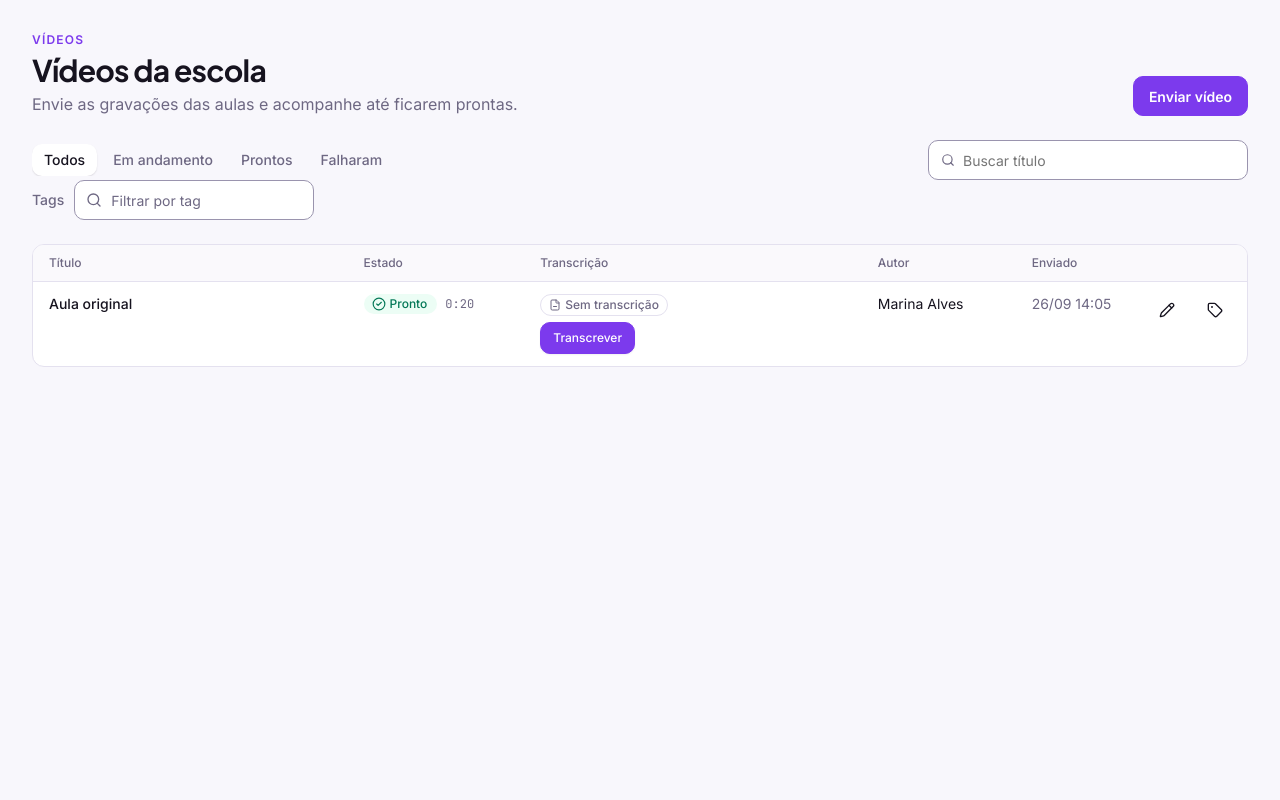
Test: video-tags-edit › uses the PUT response immediately without depending on a list refresh
The image size is (1280, 800).
Click the button named "Editar tags de Aula original". click: (1215, 310)
box: [1199,294,1231,326]
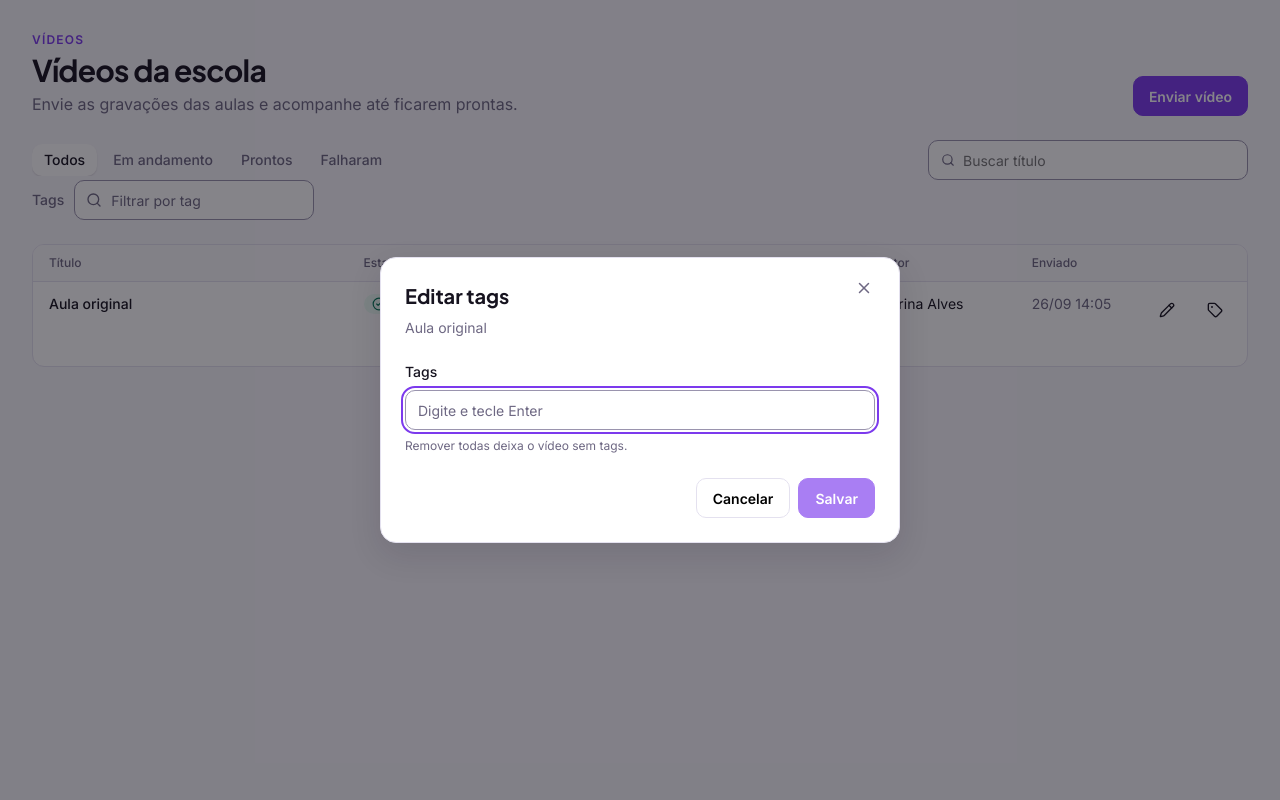
Type "docker" into the dropdown labelled "Tags". click: (640, 410)
box: [405,390,875,430]
Then press Enter
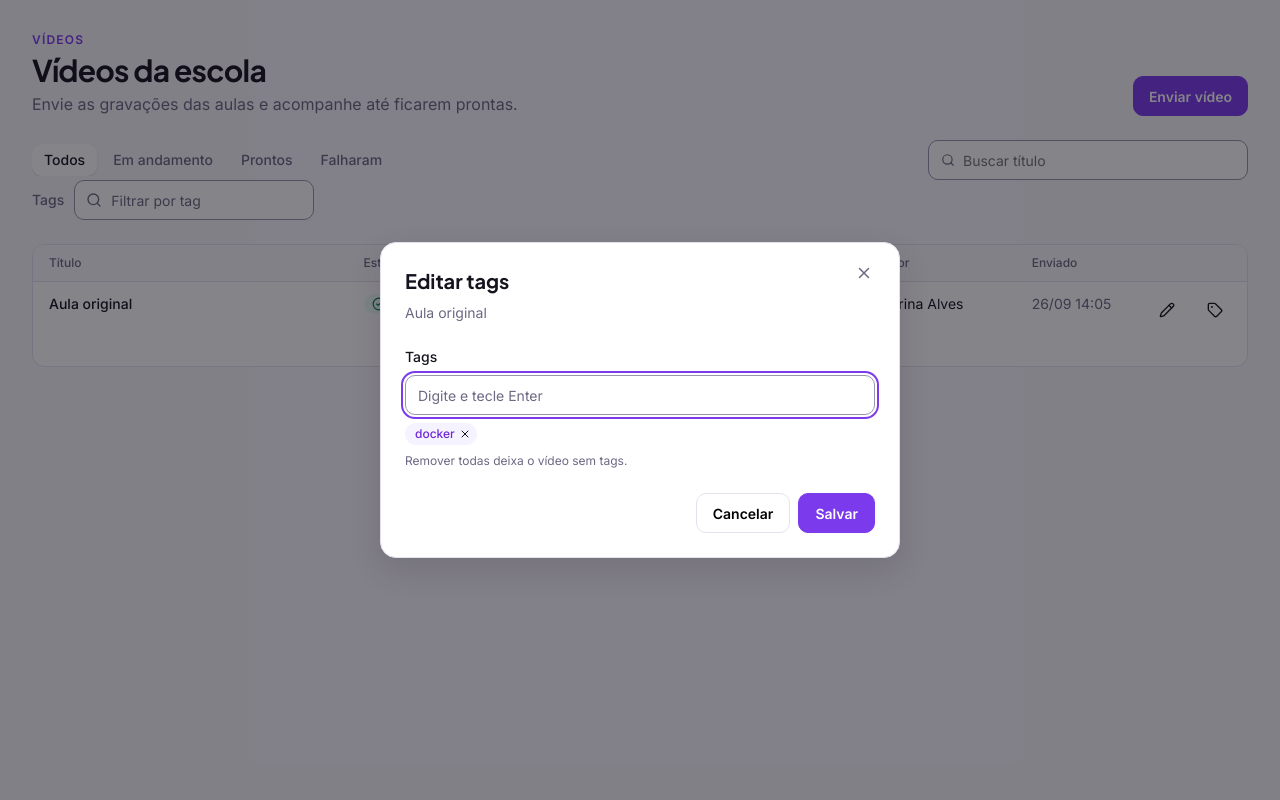
Click the button "Salvar". click: (837, 513)
box: [798,493,875,533]
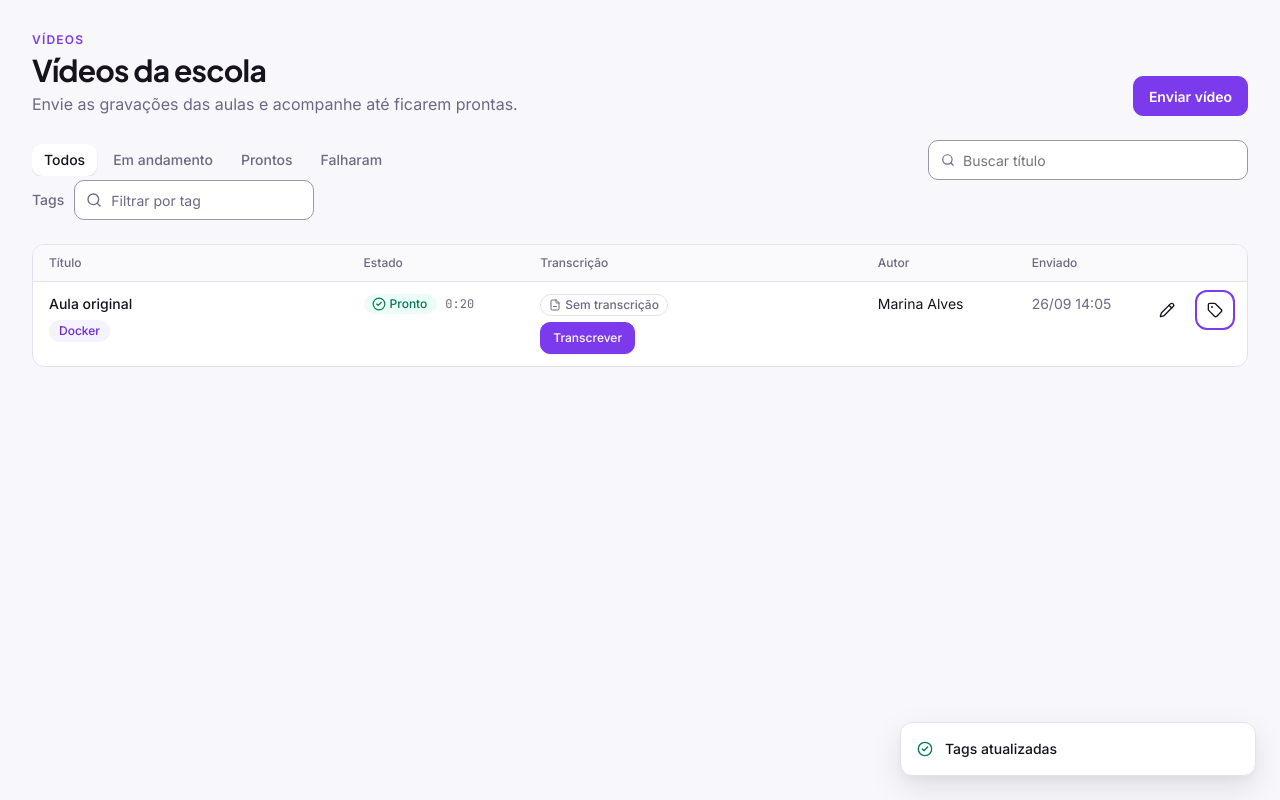
Expected: the text "Docker" is shown, [49,320,110,342]
Expected: the text "Tags atualizadas" is shown, [900,722,1256,776]
